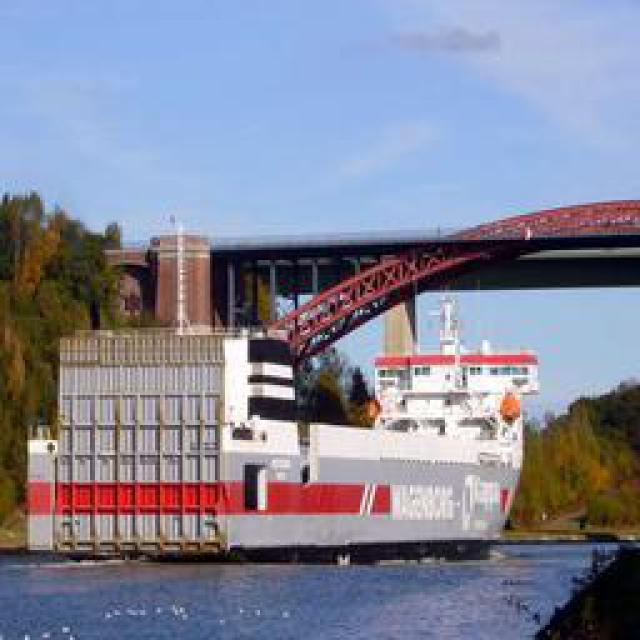Ship: (40, 259, 533, 564)
